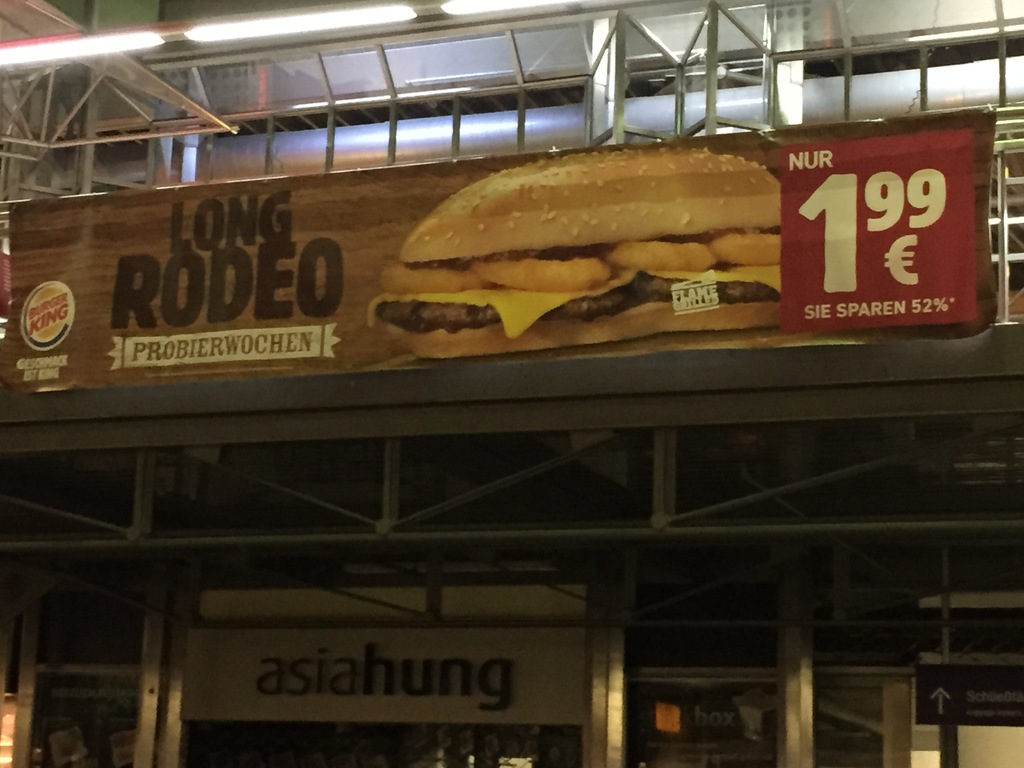Hamburger: (364, 146, 784, 362)
